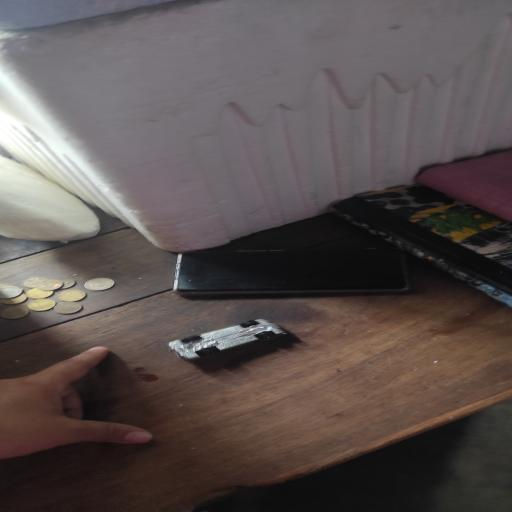Carrito: (168, 319, 286, 361)
